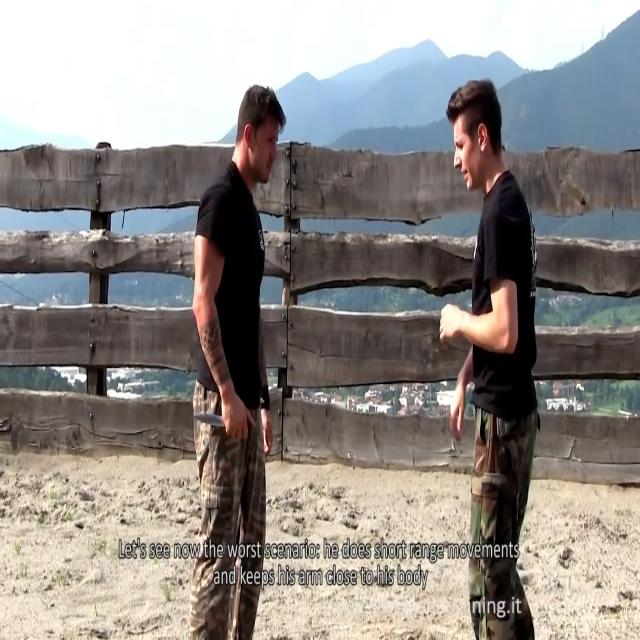knife: (195, 408, 223, 439)
